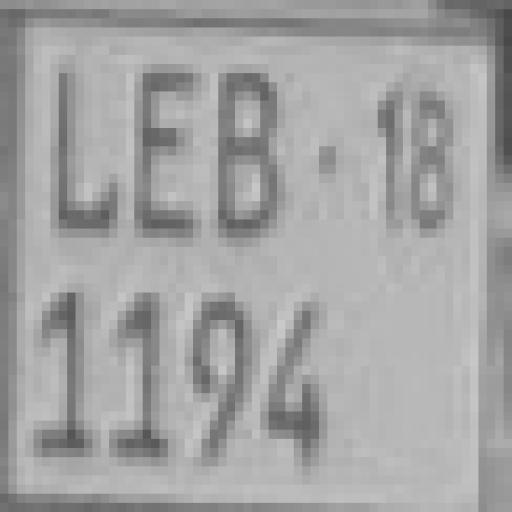1: (102, 287, 170, 463), (44, 284, 98, 461)
4: (255, 292, 352, 476)
9: (186, 279, 252, 477)
B: (211, 74, 280, 240)
E: (121, 74, 201, 246)
L: (47, 65, 121, 241)
